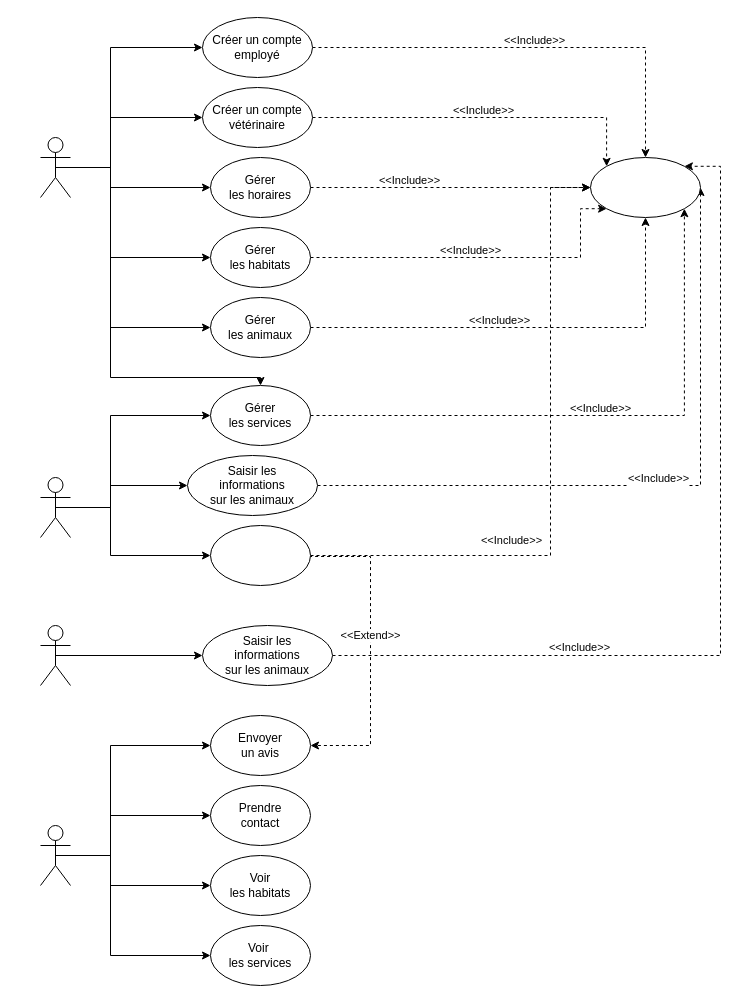
Image size: 746x1003. Some labels were removed from this diagram. The centre of each missing label's shape, as x and y in pixels:
Administrateur: point (55, 167)
Employé: point (55, 507)
Se connecter: point (645, 187)
Valider un avis: point (260, 555)
Visiteur: point (55, 855)
Vétérinaire: point (55, 655)
